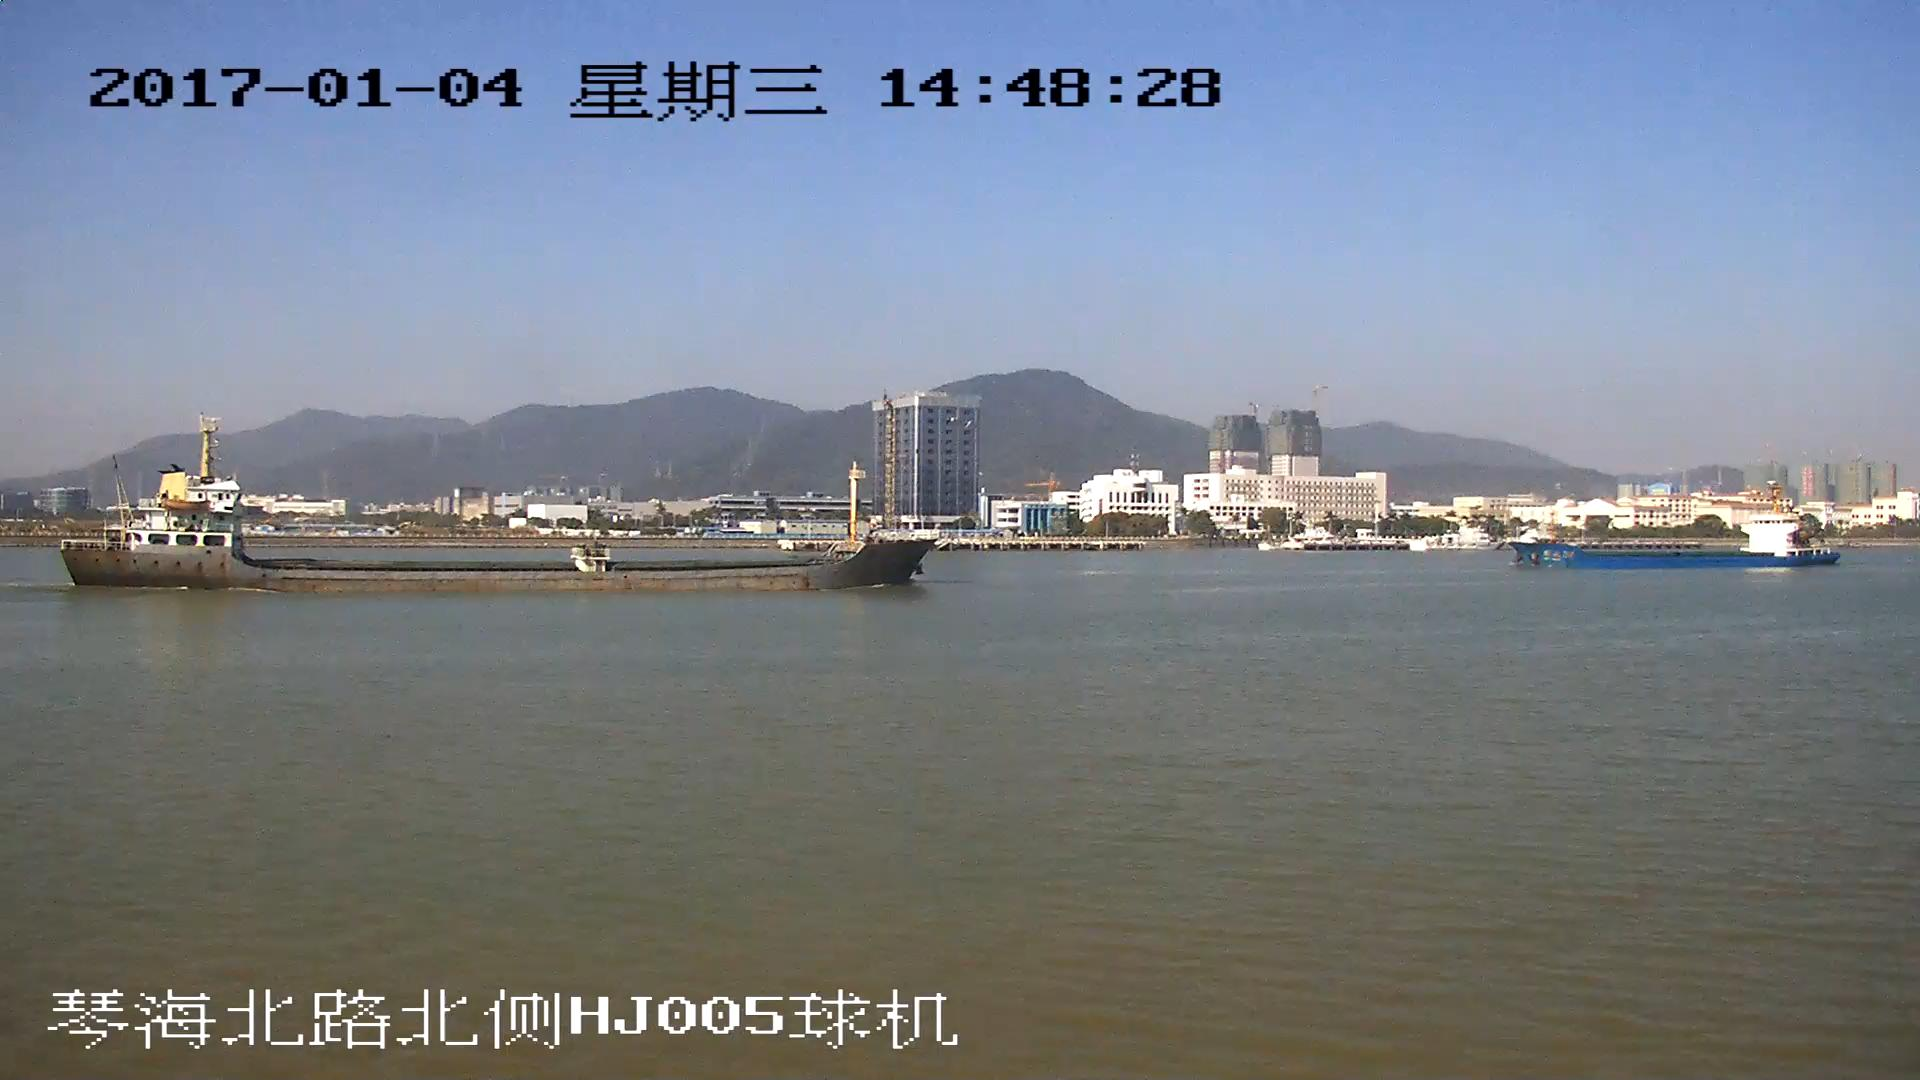general cargo ship: (61, 421, 931, 594), (1520, 503, 1836, 572)
